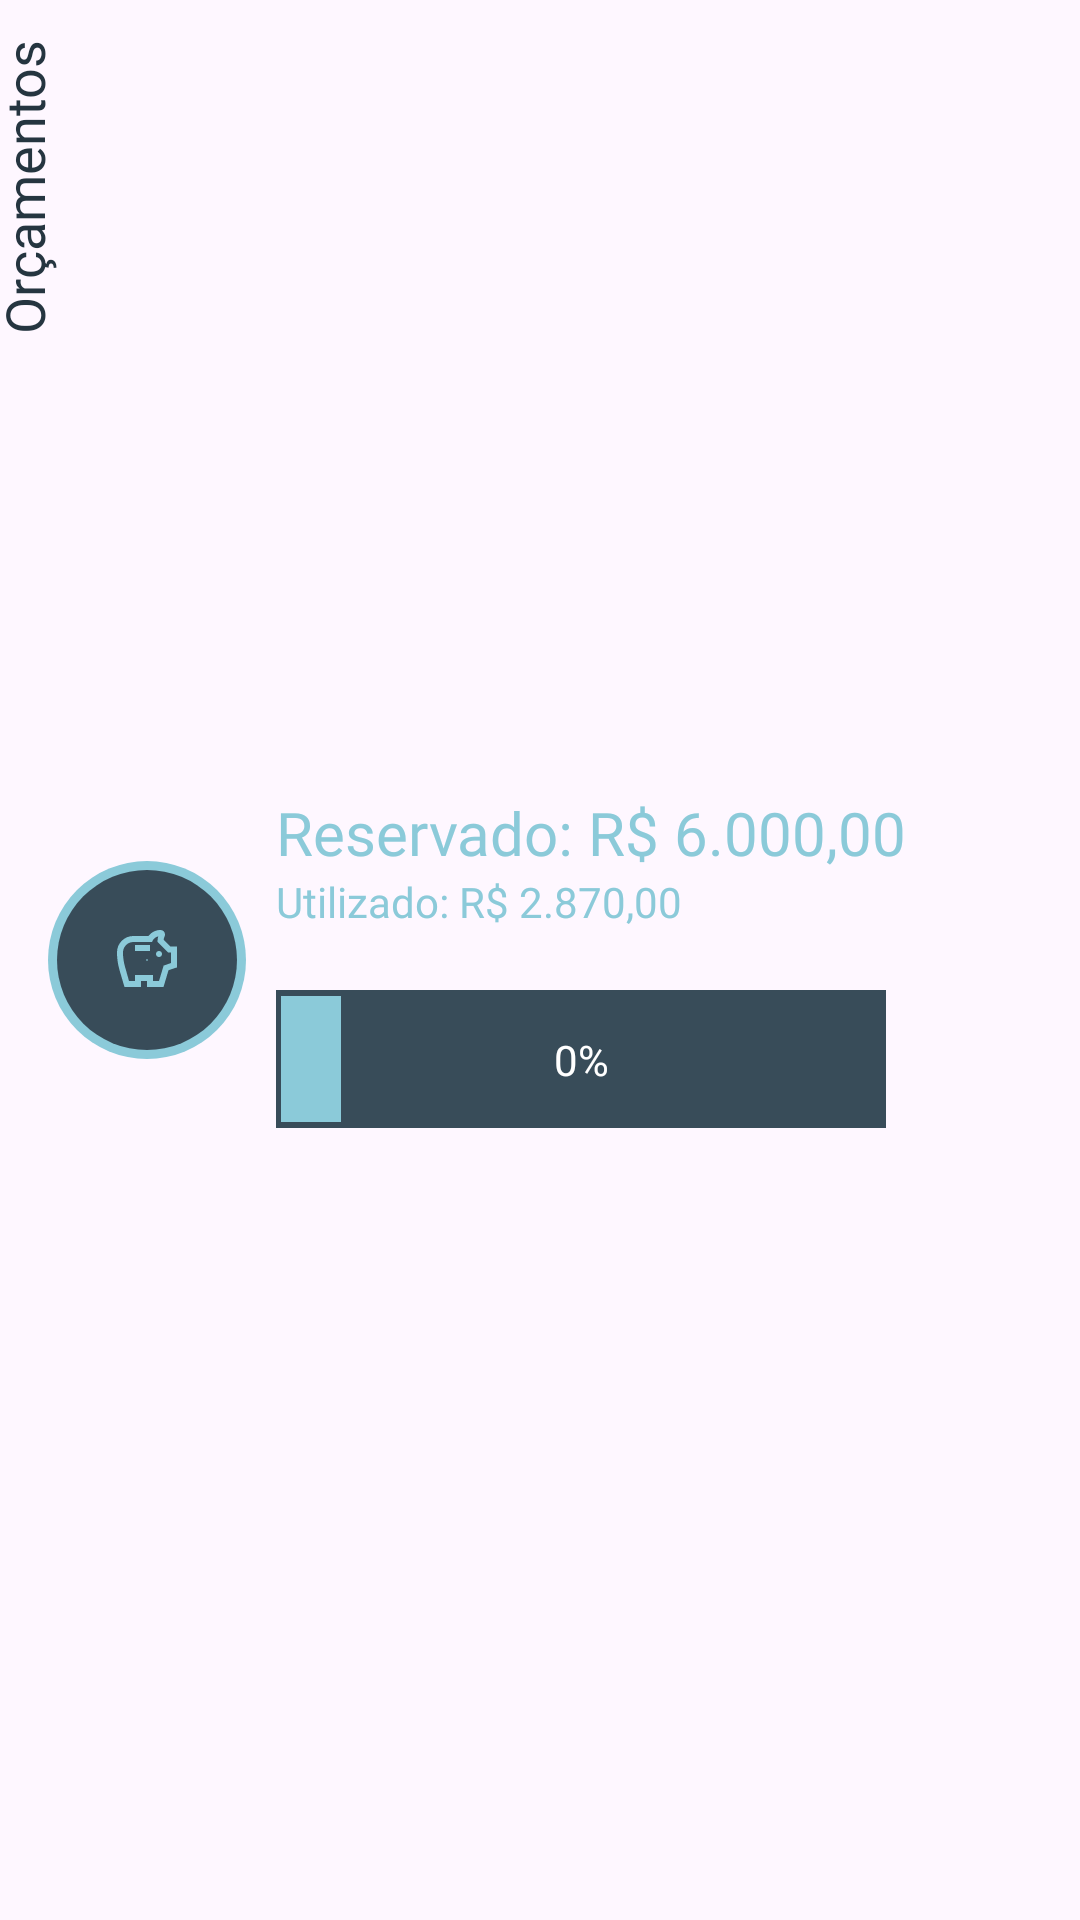

Screen size 1080w x 1920h. Icon name, then its box in pixels as [x1=x1, y1=y1, x2=x2, y2=y2]:
imagemView de pagamento: [x1=57, y1=870, x2=237, y2=1050]
